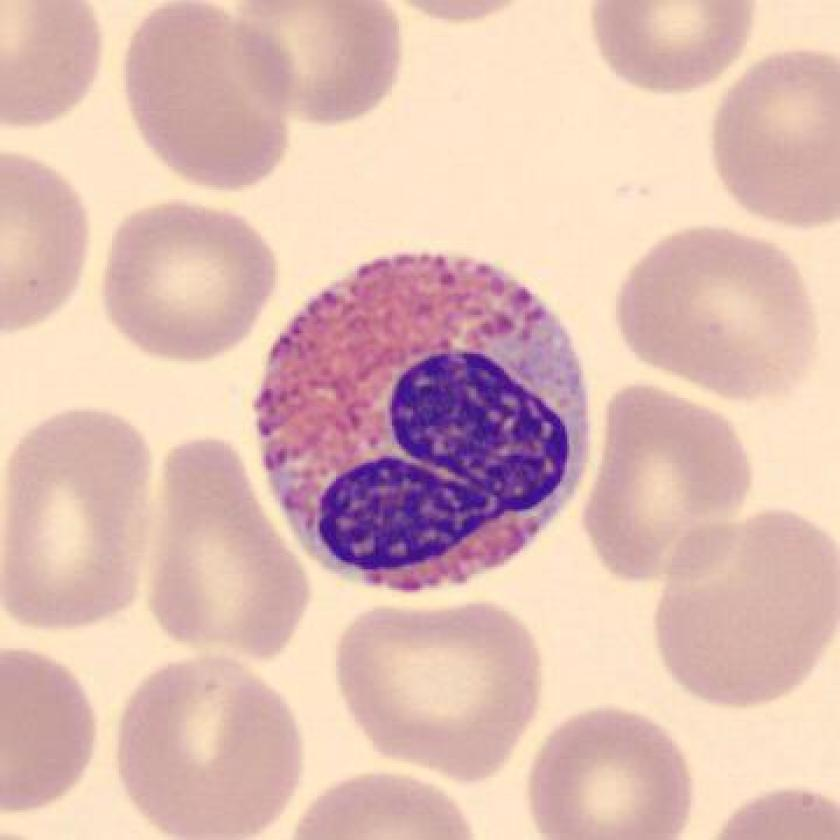eosinophil: (249, 239, 599, 612)
